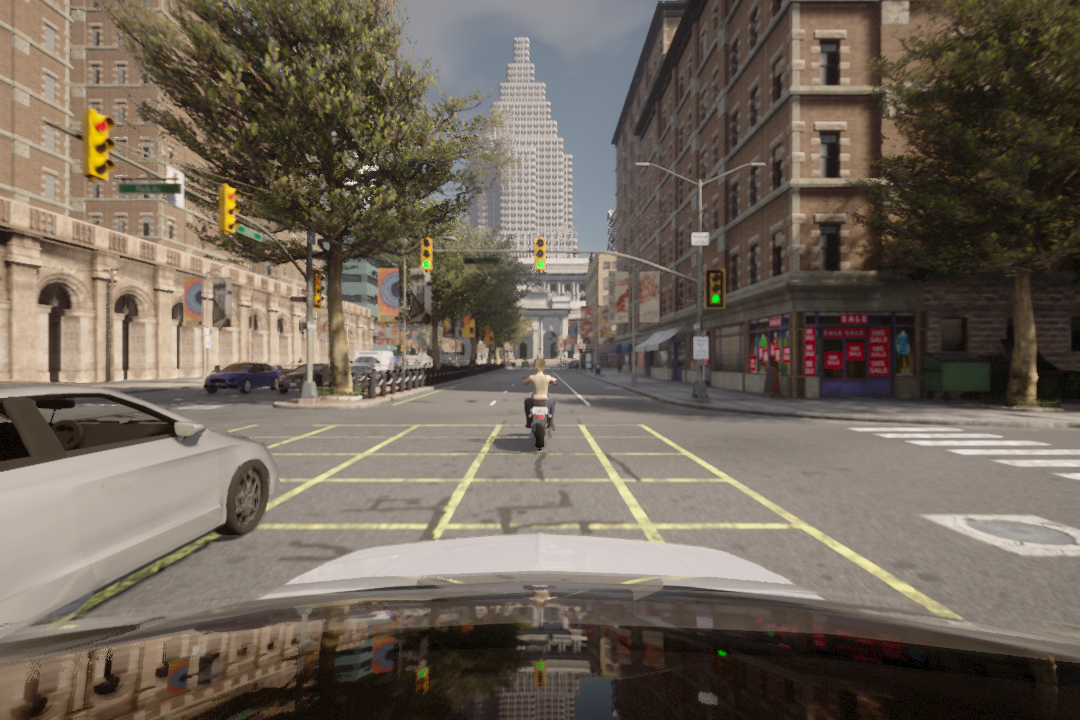TrafficLight: (82, 108, 115, 180), (214, 180, 241, 241), (531, 231, 550, 276), (706, 267, 725, 312), (418, 237, 438, 274)
walkside: (844, 418, 1080, 485)
